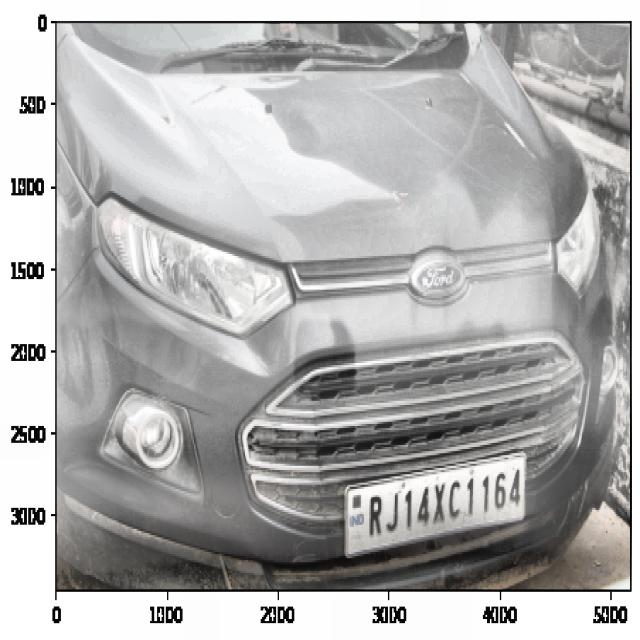license_plate: (362, 462, 525, 539)
